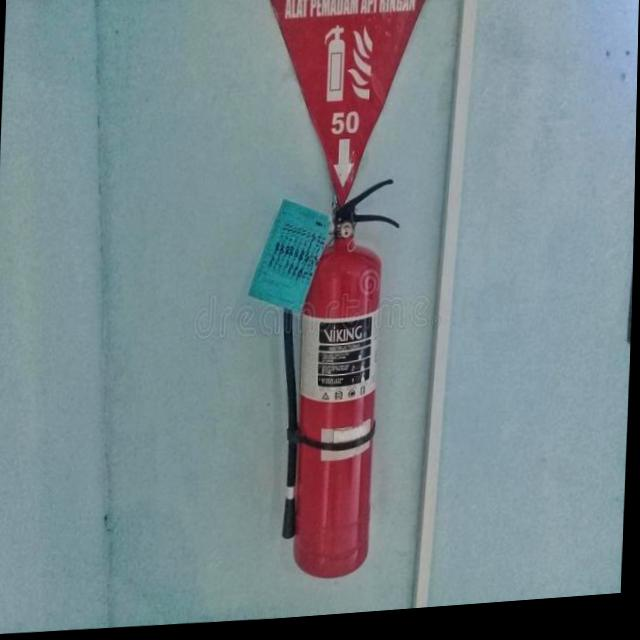FireExtinguisher: (271, 177, 409, 590)
